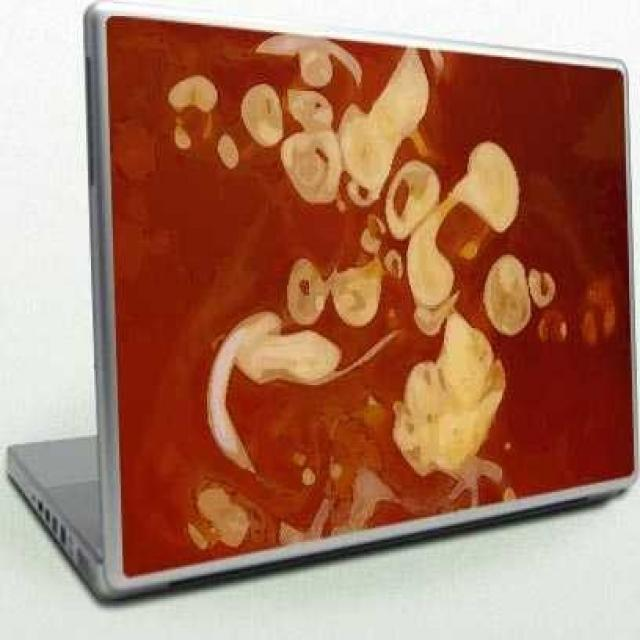laptop: (13, 10, 640, 593)
